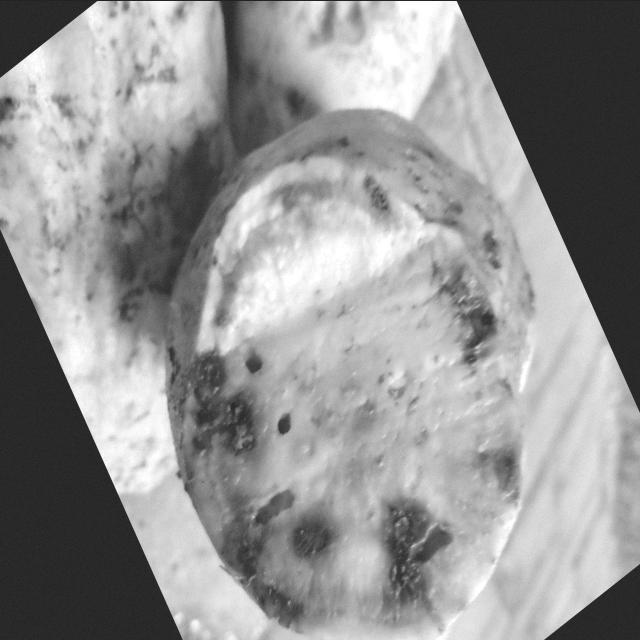Sick Sweet Potato_Tuber Rot: (168, 148, 534, 637)
